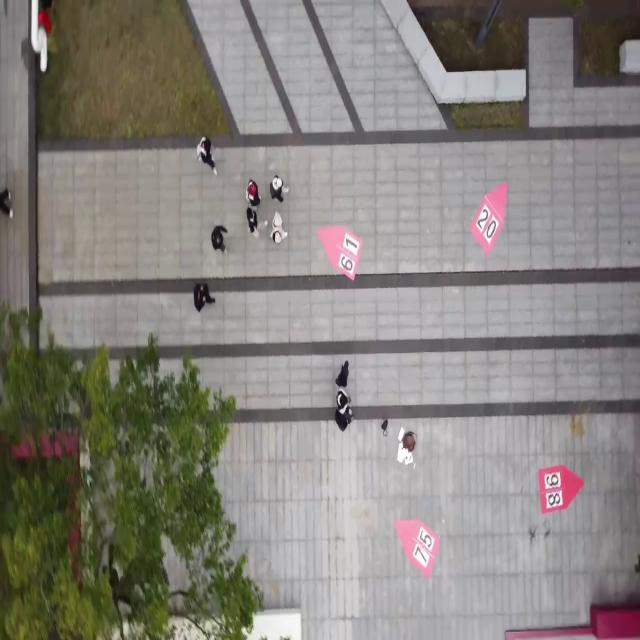-sign-: (390, 508, 450, 585), (470, 170, 512, 268), (316, 213, 368, 290), (538, 450, 592, 523)
